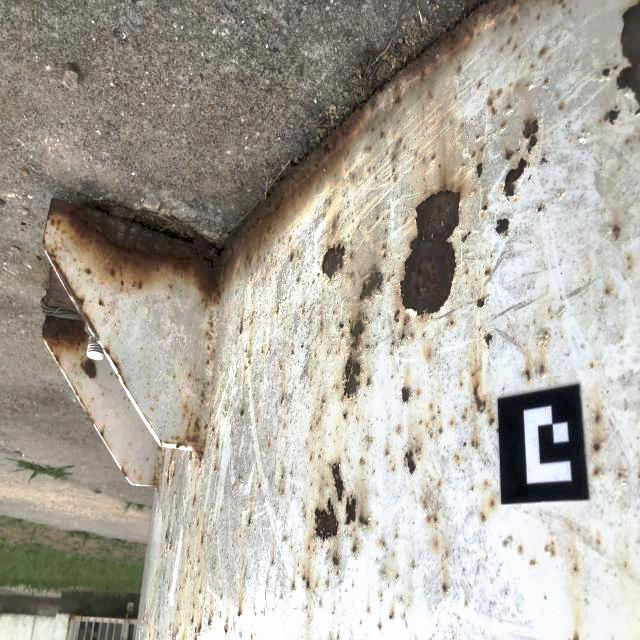Corrosion: (44, 0, 572, 367), (396, 183, 462, 324), (42, 234, 102, 342), (341, 262, 384, 402), (164, 401, 209, 469), (615, 0, 640, 117), (42, 313, 89, 374), (64, 373, 97, 427), (319, 239, 353, 289), (43, 264, 78, 312), (500, 155, 530, 203), (311, 496, 340, 543), (103, 347, 129, 390), (392, 313, 415, 350), (148, 444, 165, 494), (520, 115, 540, 156), (328, 461, 346, 504), (404, 442, 422, 476), (597, 104, 622, 126), (472, 381, 487, 414), (344, 493, 358, 528), (390, 136, 403, 171), (80, 356, 97, 380), (98, 424, 112, 452), (494, 215, 511, 237), (166, 448, 175, 486), (400, 384, 412, 405), (610, 222, 622, 243), (481, 331, 494, 349), (598, 65, 611, 83), (486, 95, 497, 116), (357, 514, 370, 528), (475, 160, 483, 180), (461, 230, 472, 244), (487, 407, 495, 426), (393, 307, 401, 325), (331, 551, 340, 567), (503, 147, 513, 161), (301, 575, 311, 589), (351, 538, 359, 555), (475, 298, 487, 309), (593, 440, 603, 453), (538, 360, 546, 376), (202, 378, 212, 390), (540, 154, 549, 167), (539, 45, 548, 58), (481, 201, 488, 217), (524, 368, 531, 384), (201, 388, 207, 406), (332, 214, 337, 235), (470, 439, 479, 450), (84, 265, 93, 276), (547, 546, 556, 557), (120, 466, 128, 478), (98, 297, 107, 307), (537, 203, 544, 215), (595, 412, 601, 426), (365, 376, 372, 387), (244, 358, 251, 369), (381, 244, 387, 256), (386, 274, 395, 282), (604, 287, 611, 297), (558, 102, 566, 110), (500, 120, 507, 129), (192, 493, 196, 508), (530, 561, 538, 568), (194, 626, 201, 634), (594, 469, 600, 478), (546, 546, 552, 555), (170, 634, 179, 640), (442, 584, 448, 593), (248, 514, 252, 527), (496, 88, 503, 95), (392, 164, 396, 176), (359, 458, 365, 466), (613, 62, 618, 71), (481, 514, 486, 523), (274, 306, 279, 315), (280, 394, 284, 405), (338, 323, 344, 330), (626, 138, 633, 144), (544, 78, 550, 85), (240, 320, 243, 334), (290, 252, 294, 262), (320, 320, 323, 333), (572, 634, 578, 640), (240, 408, 244, 417), (472, 370, 477, 377), (389, 614, 394, 621), (206, 620, 211, 627), (200, 534, 203, 545), (432, 152, 436, 160), (340, 332, 344, 340), (223, 626, 227, 634), (423, 502, 427, 510), (450, 320, 455, 326), (366, 146, 372, 151), (249, 634, 254, 640), (335, 636, 342, 640), (428, 516, 432, 523), (574, 568, 579, 573), (490, 502, 495, 507), (215, 442, 218, 450), (238, 610, 241, 618), (190, 604, 194, 610), (267, 442, 271, 448), (281, 474, 284, 482), (385, 450, 389, 456), (439, 428, 443, 434), (312, 278, 315, 285), (258, 484, 261, 491), (343, 414, 347, 419), (378, 626, 382, 631), (434, 518, 438, 523), (383, 252, 386, 258), (376, 216, 379, 222), (214, 466, 217, 472), (591, 364, 595, 368), (194, 636, 198, 640), (460, 382, 463, 387), (297, 278, 300, 282)
